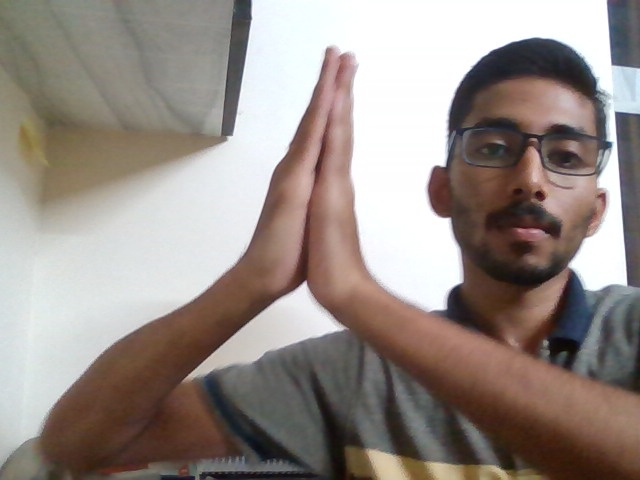Thank You: (214, 30, 421, 357)
